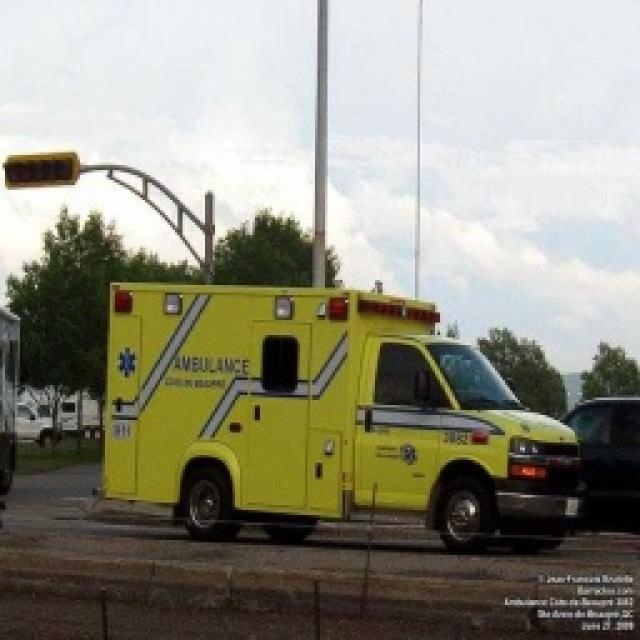emergency-vehicle: (81, 276, 591, 561)
